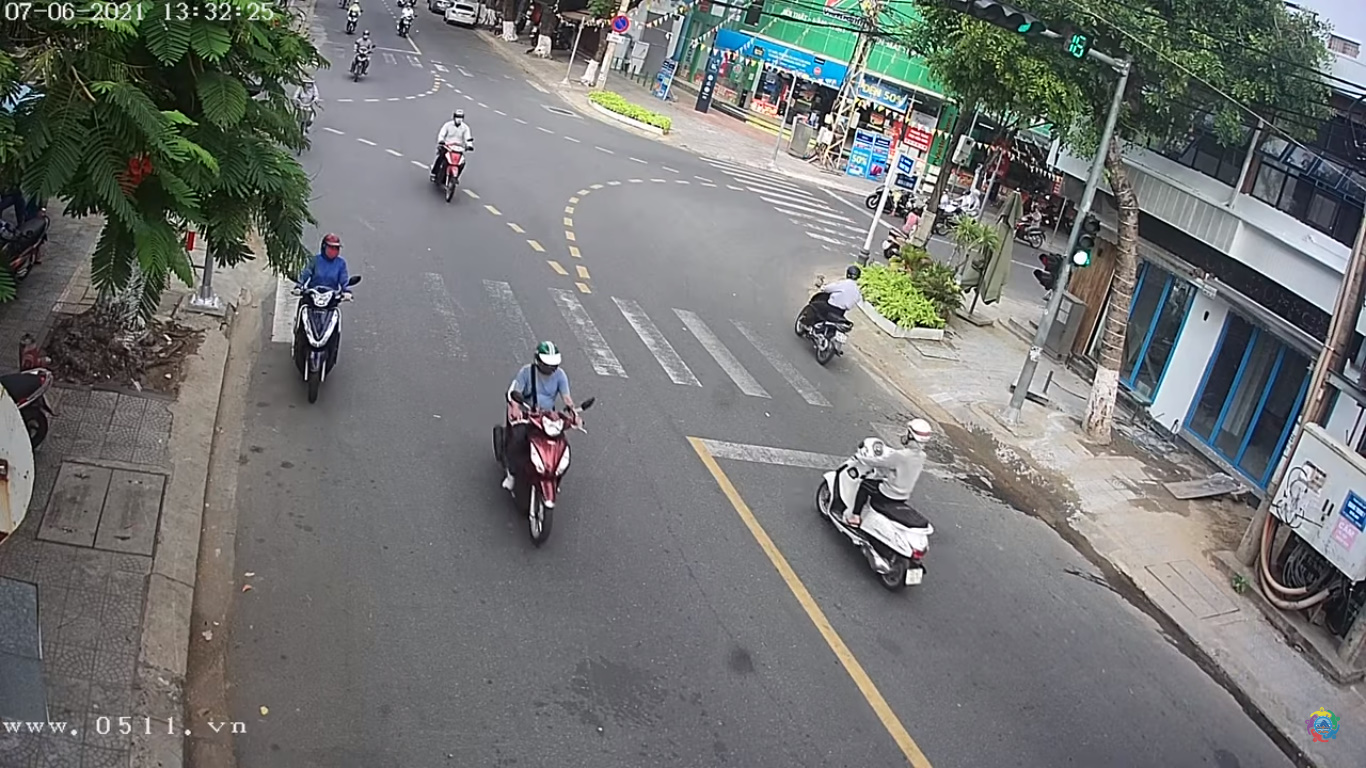motorbike: (814, 417, 945, 595), (490, 340, 596, 539), (284, 237, 359, 401), (794, 259, 865, 369)
